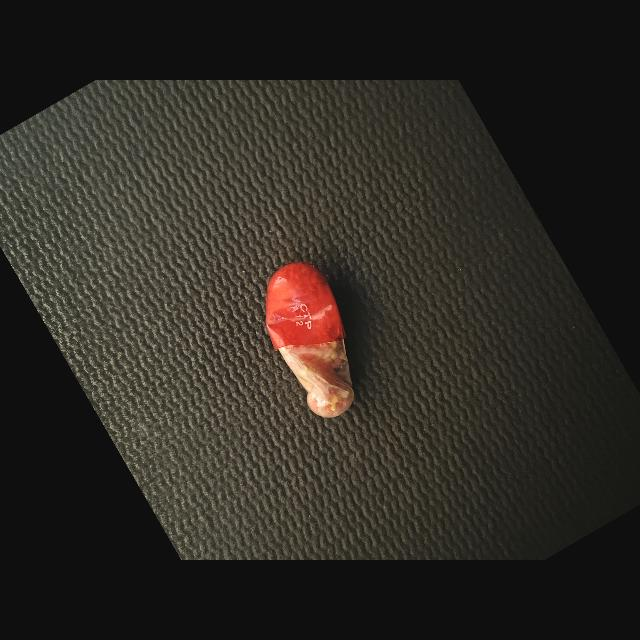Defective Capsule: (266, 263, 354, 418)
